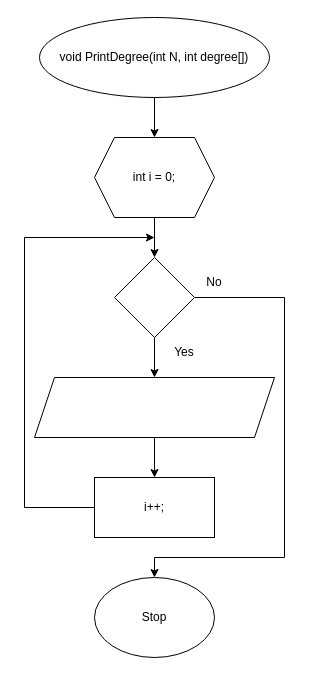
This 310x675 diagram has some shape labels left out. The shapes that lost their labels are listed below. From the top down, each one's centre as x and y in pixels, then its label:
the point at 154,297: i<N?
the point at 154,407: printf("DEGREE %d %d\n", i, degree[i]);
